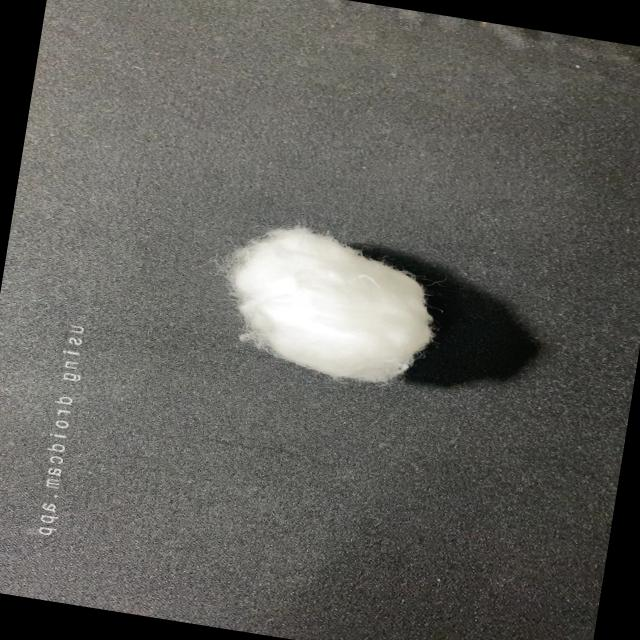cotton: (196, 206, 458, 402)
